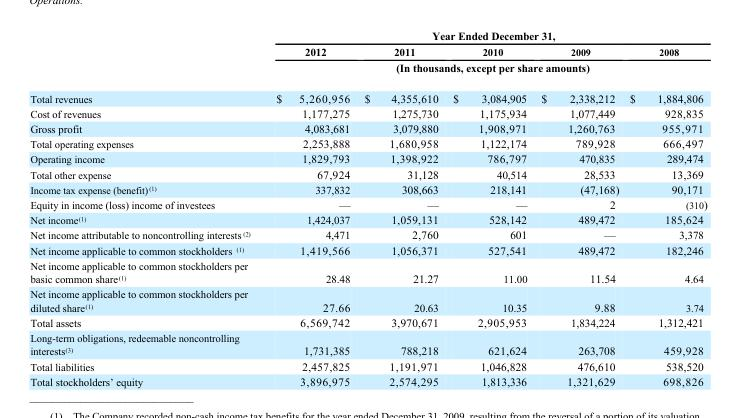table: (29, 29, 706, 387)
table column: (29, 29, 262, 387), (262, 29, 356, 387), (533, 29, 623, 387), (356, 29, 445, 387), (445, 29, 533, 387), (623, 29, 706, 387)
table column header: (29, 29, 706, 82)
table row: (29, 257, 706, 286), (29, 286, 706, 314), (29, 330, 706, 358), (29, 59, 706, 82), (29, 82, 706, 105), (29, 43, 706, 59), (29, 135, 706, 151), (29, 211, 706, 227), (29, 314, 706, 330), (29, 105, 706, 120), (29, 120, 706, 135), (29, 151, 706, 166), (29, 166, 706, 181), (29, 181, 706, 196), (29, 196, 706, 211), (29, 227, 706, 242), (29, 242, 706, 257), (29, 358, 706, 373), (29, 29, 706, 43), (29, 373, 706, 387)
table spanning cell: (262, 59, 706, 82), (262, 29, 706, 43)
